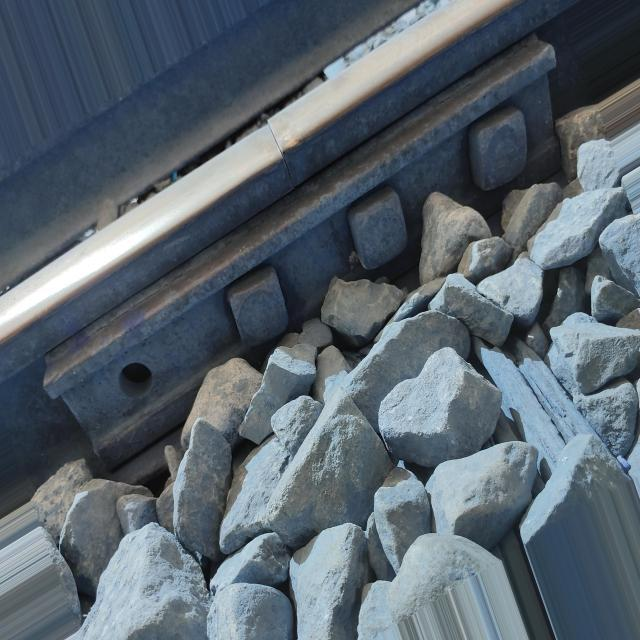Defective Joint: (44, 60, 561, 469)
